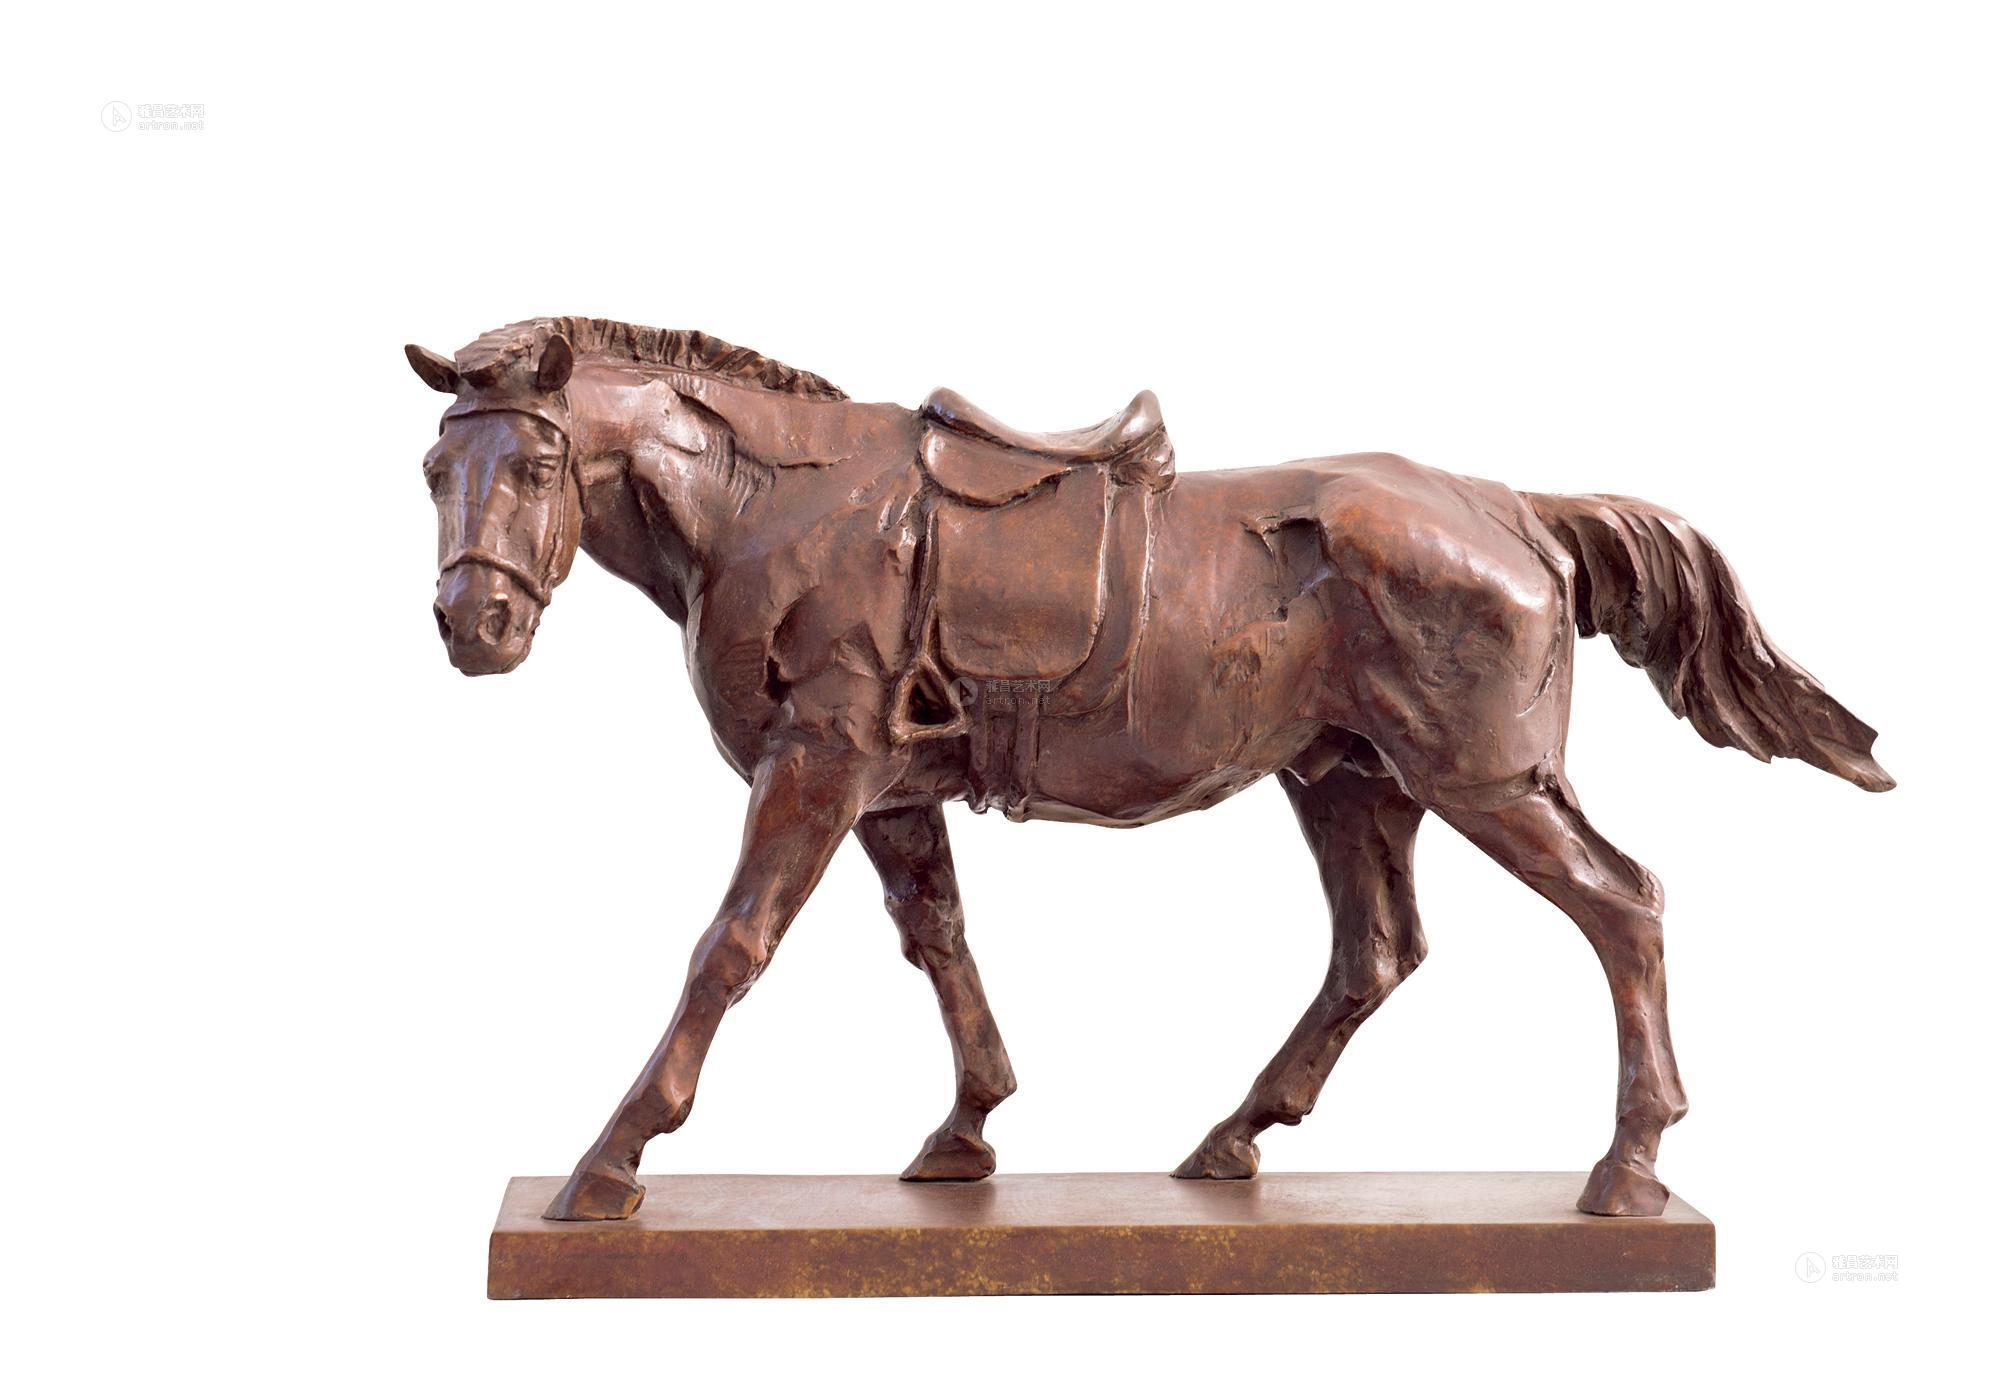background: (383, 340, 1211, 834)
